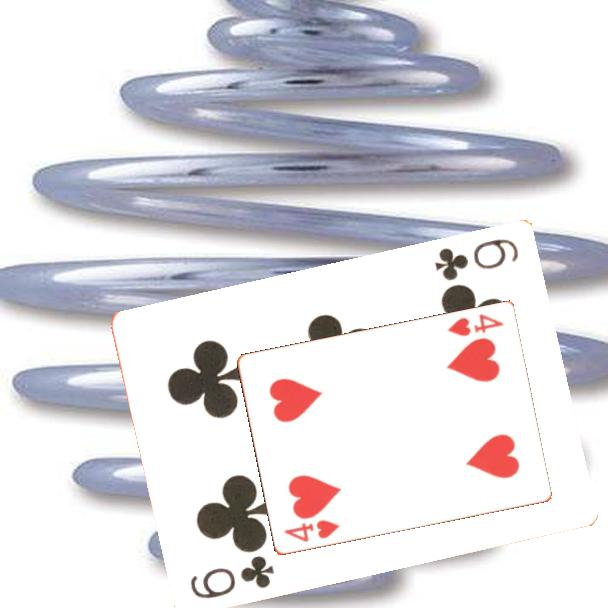c06: (187, 551, 278, 601), (432, 234, 522, 283)
h04: (443, 311, 506, 339), (280, 517, 342, 545)
